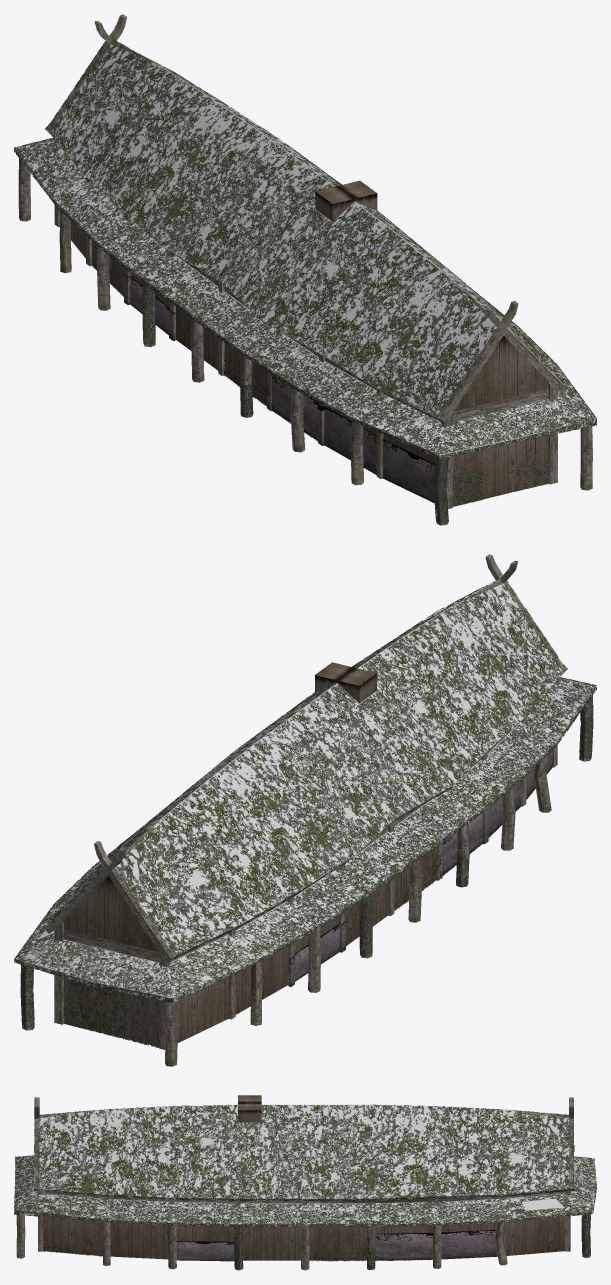
Rendered from Longhouse_LOD03.fbx.
3 views of the same model, one above another, from view 1: azimuth 30°, elevation 25°; view 2: azimuth 150°, elevation 25°; view 3: azimuth 270°, elevation 25° (orthographic). The views are drawn at different scales.
Visible parts, largest first — view 1: Mesh Object; view 2: Mesh Object; view 3: Mesh Object.
Boxes of the visible parts, <box> form: Mesh Object: <box>14,14,596,525</box>; Mesh Object: <box>14,554,596,1066</box>; Mesh Object: <box>14,1095,596,1270</box>.
Size of the model in its own units: 7.06 by 5.48 by 22.05.
